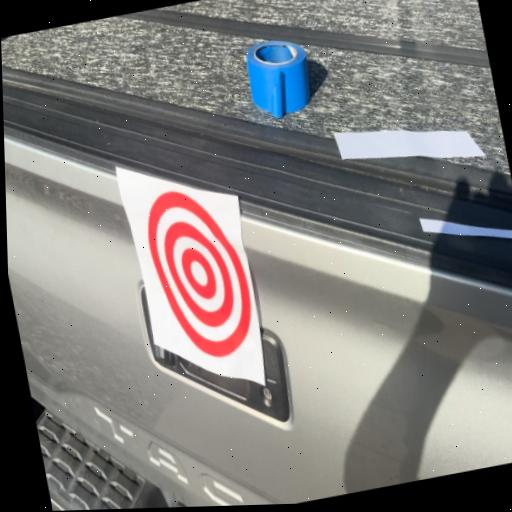bullseye: (134, 174, 265, 383)
